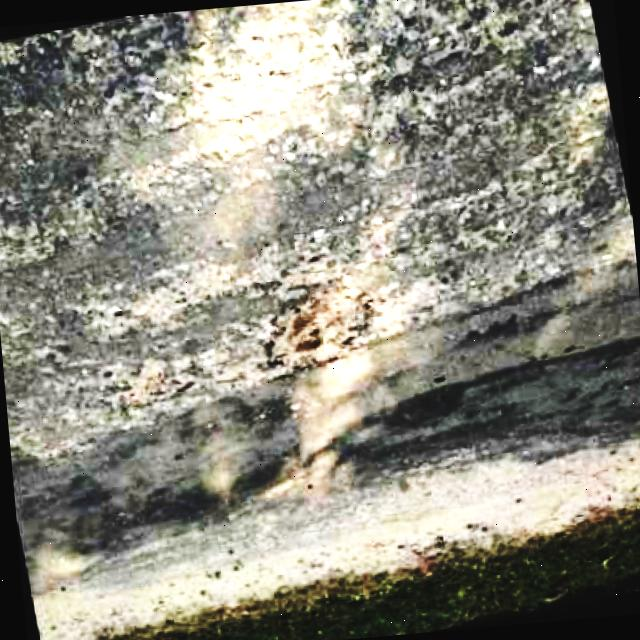pothole: (50, 338, 233, 441), (254, 275, 388, 378)
